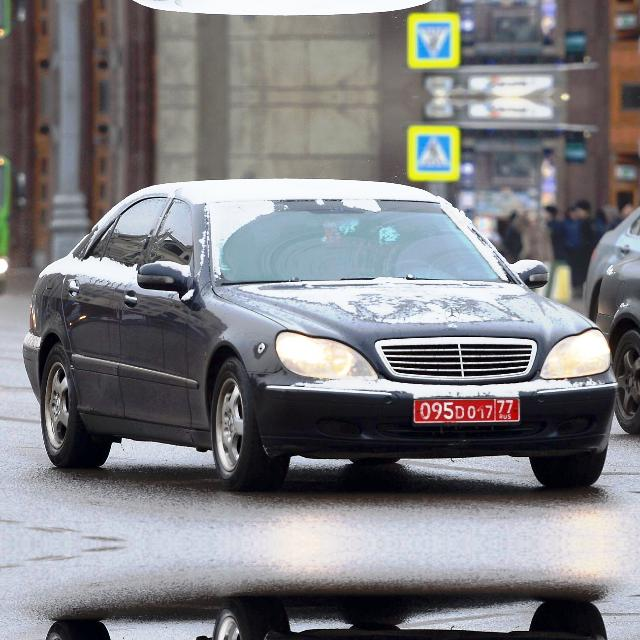diplomatic: (407, 392, 525, 423)
